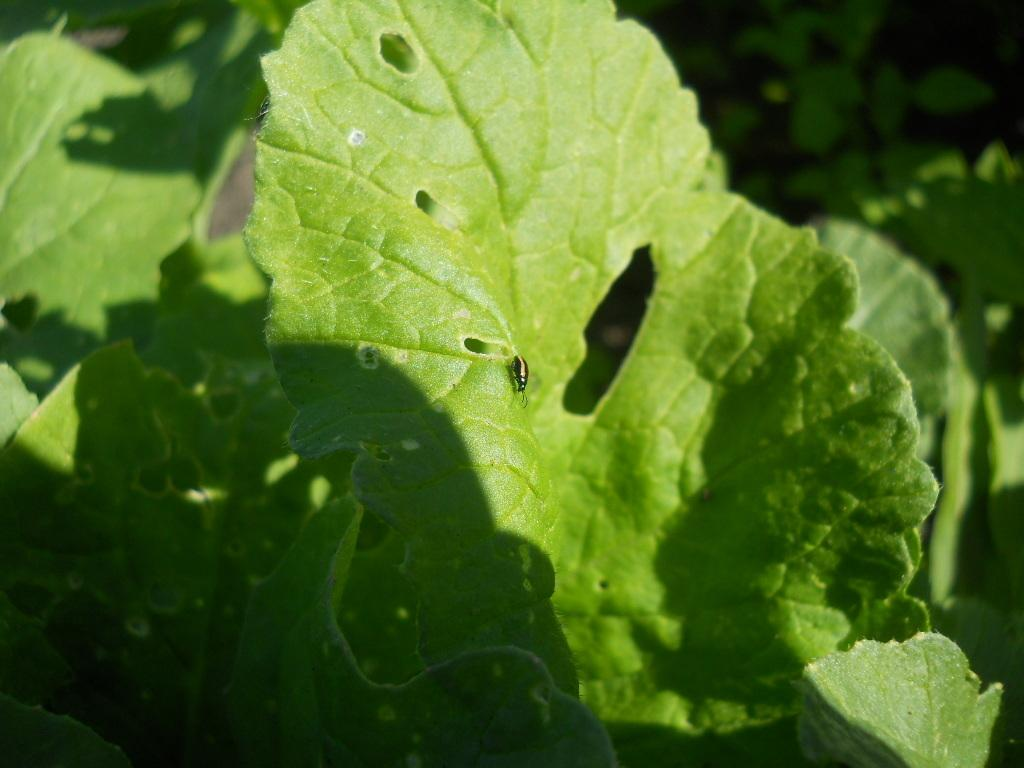flea_beetle: (499, 349, 541, 406)
